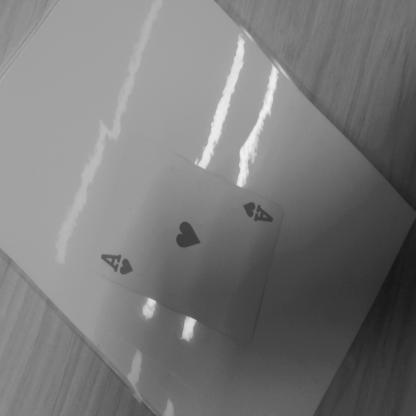AH: (232, 192, 282, 230), (91, 245, 138, 282)
